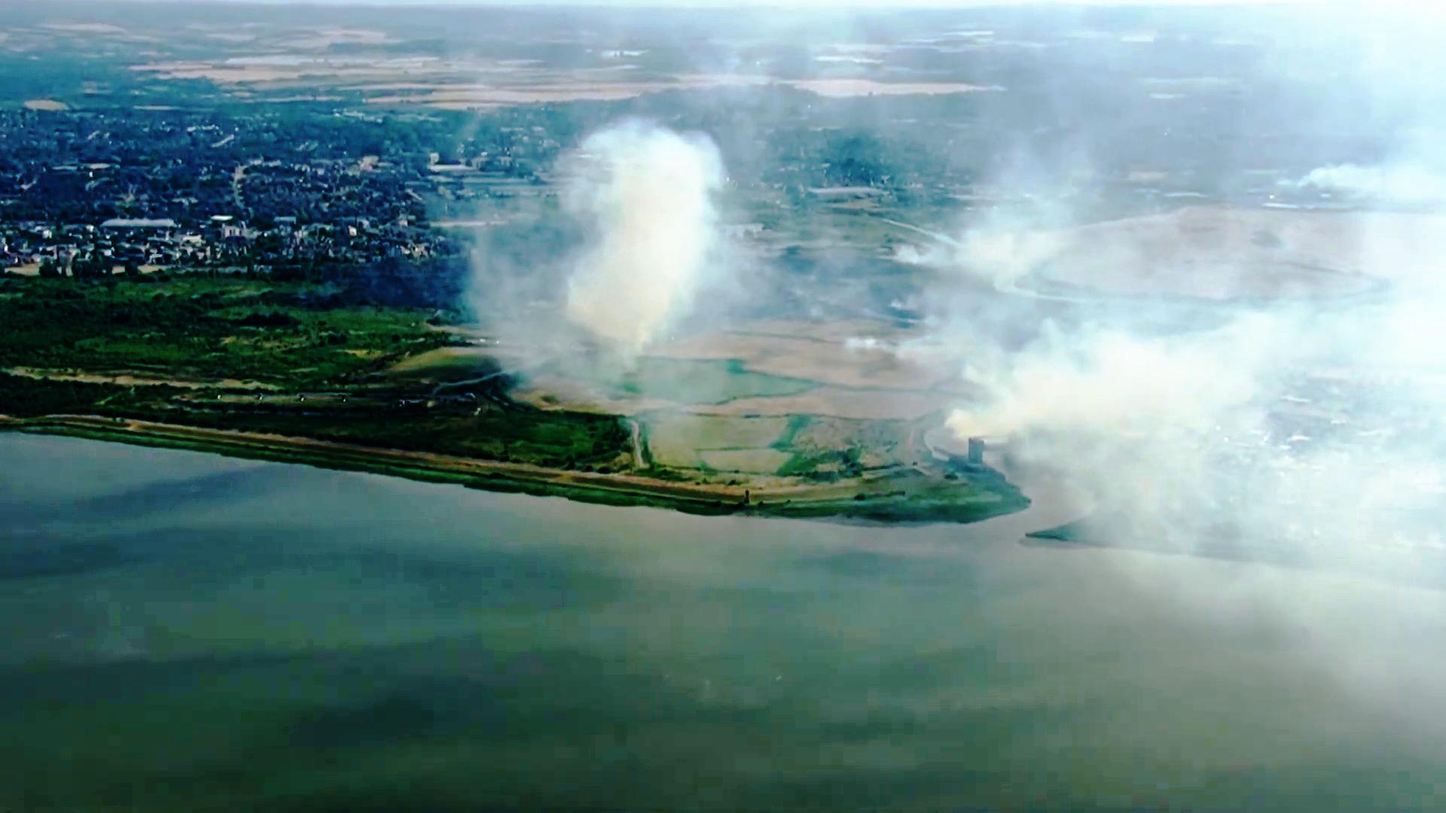smoke: (577, 100, 760, 300)
